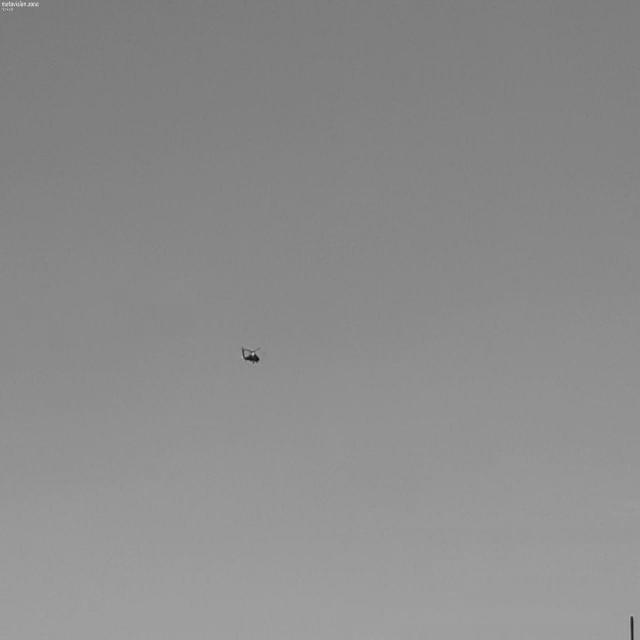helikopter: (226, 321, 288, 385)
